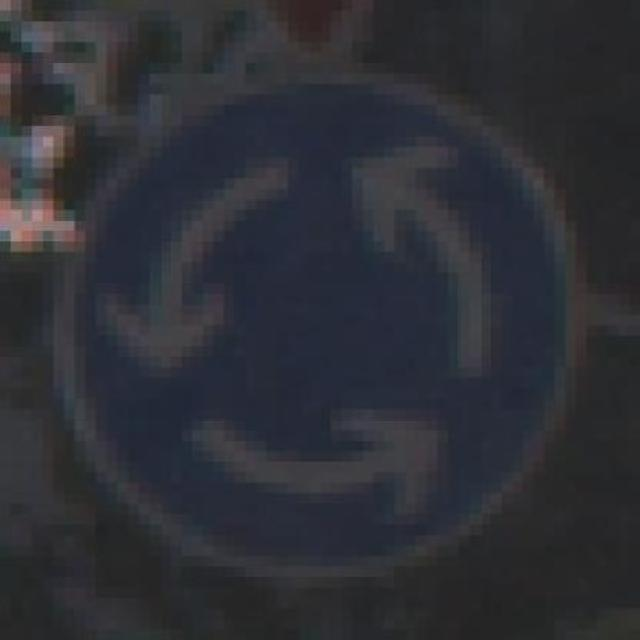Round-About: (42, 52, 620, 598)
